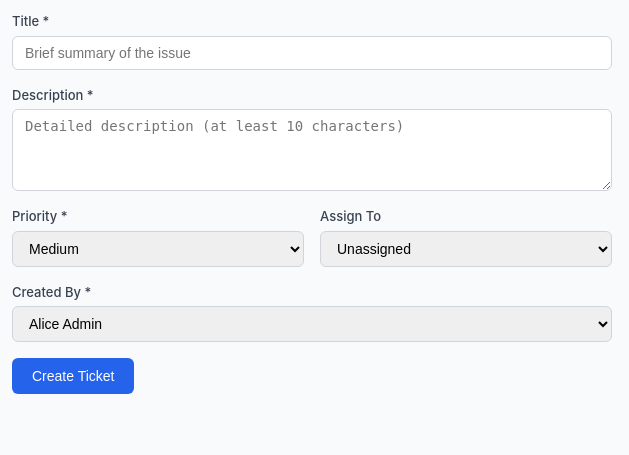
Test: TicketForm › shows validation error for empty title on submit
Click the button "Create Ticket". click: (73, 376)
box: [12, 358, 134, 394]
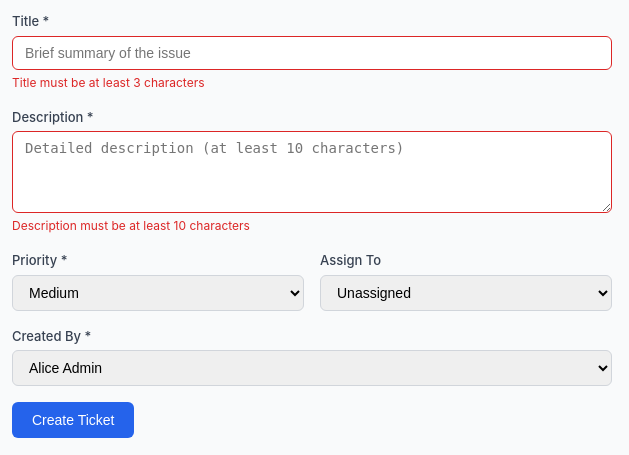
Expected: the text "Title must be at least 3 characters" is shown, [12, 74, 204, 90]
